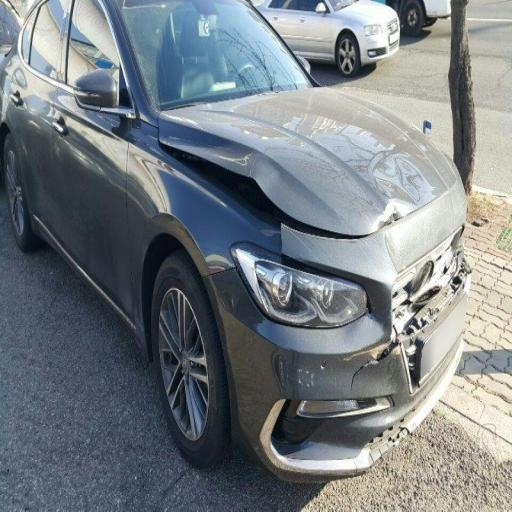broken: (120, 34, 432, 442)
